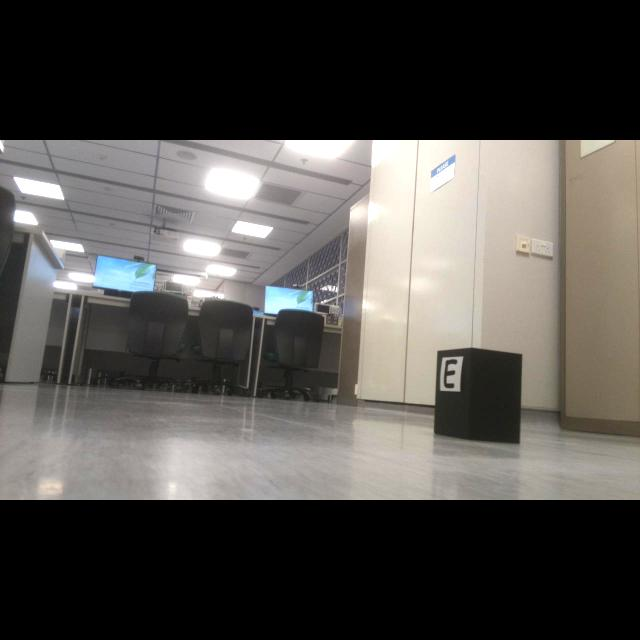E: (442, 361, 459, 390)
